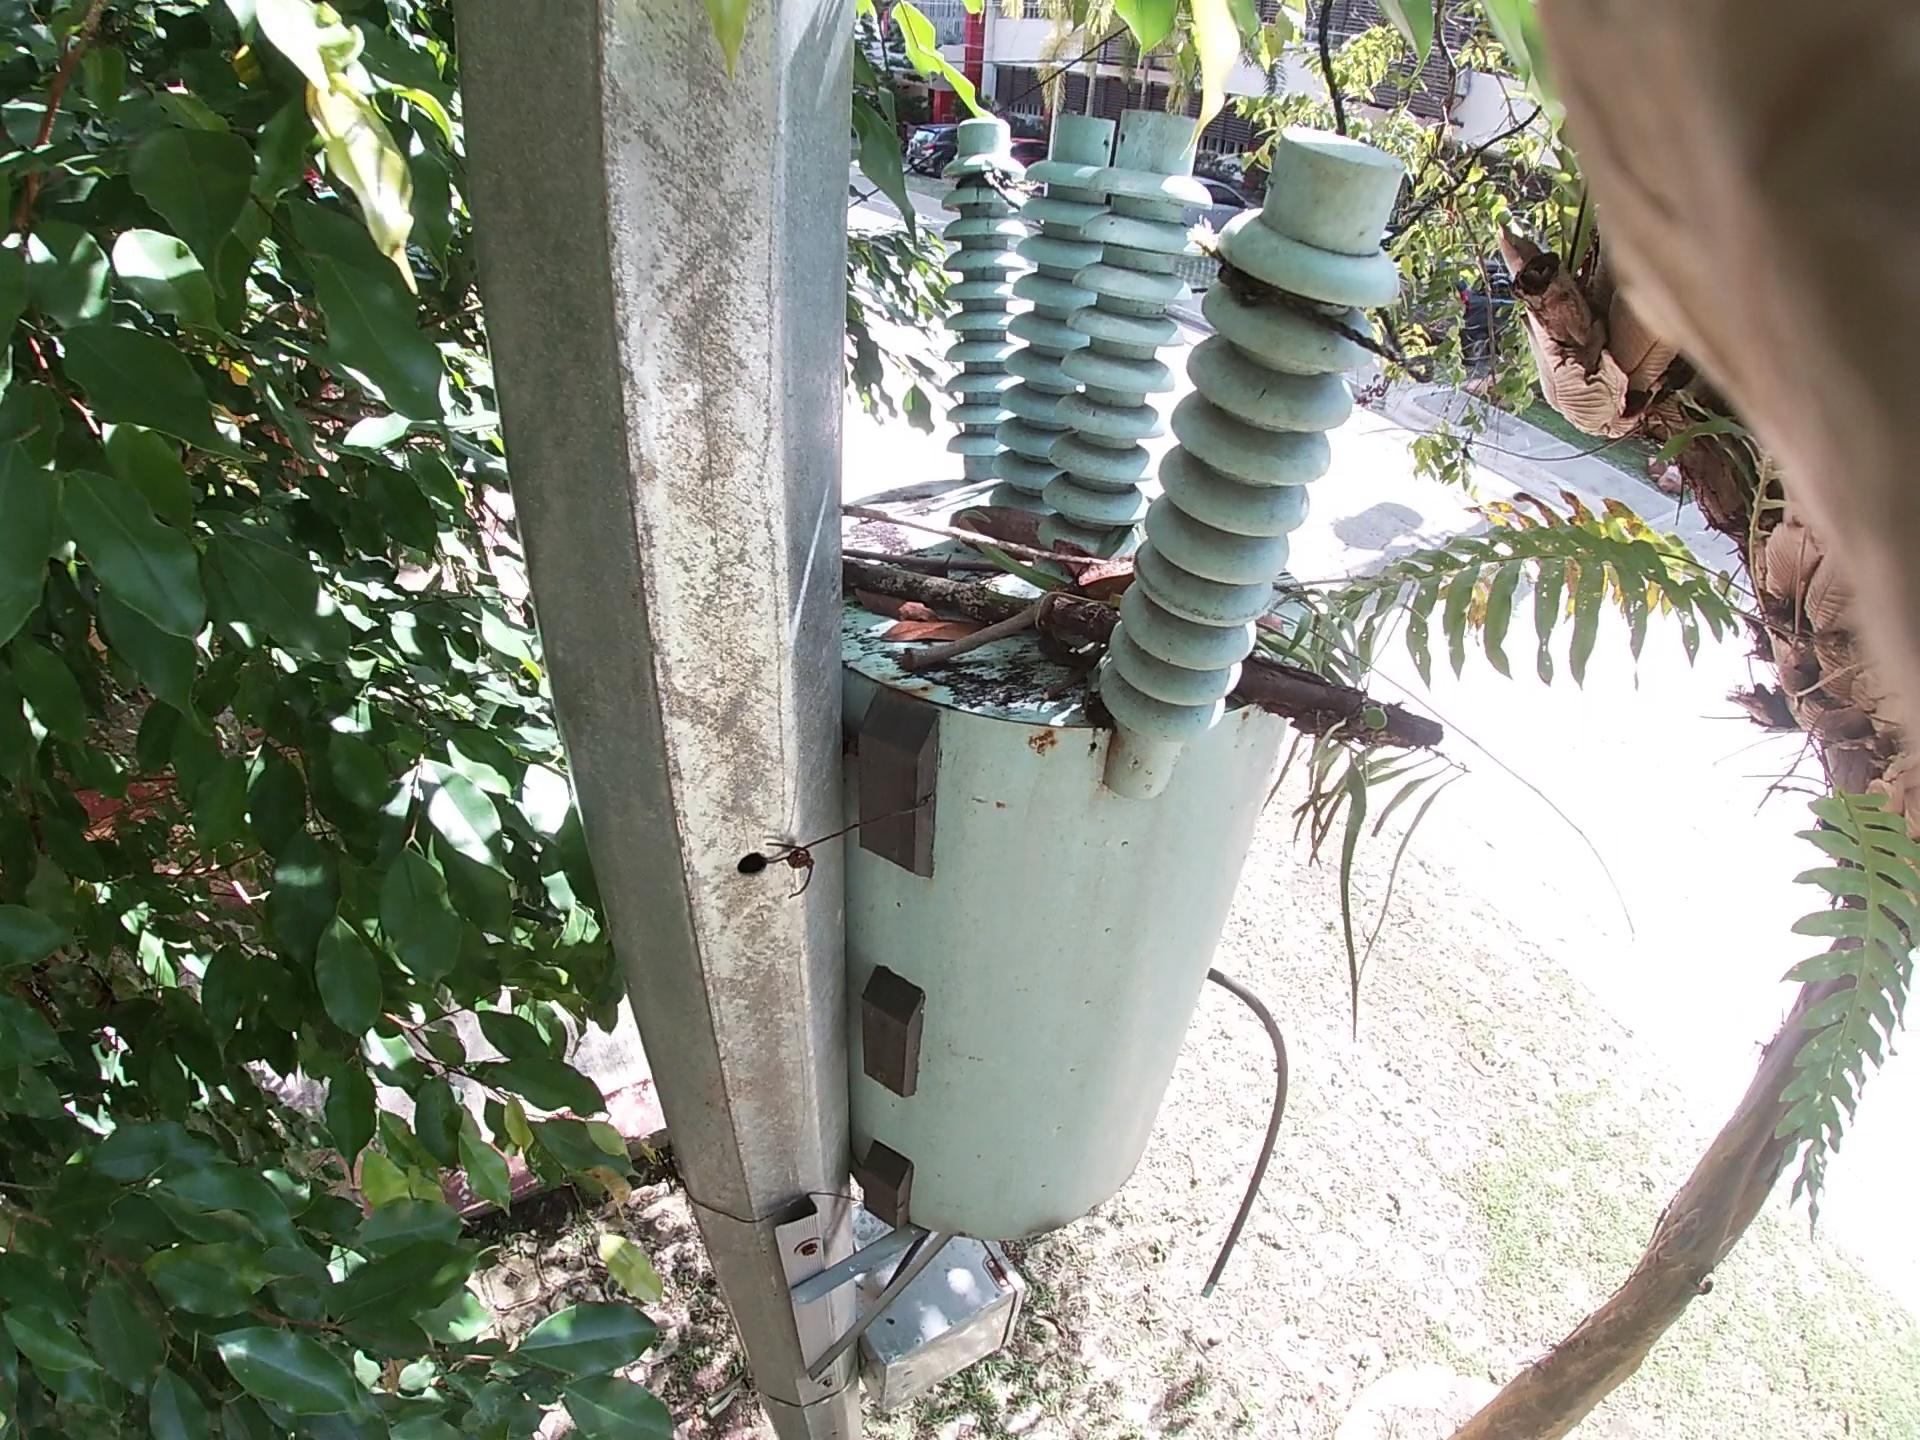branch with leaves: (841, 564, 1534, 797)
leaf: (859, 569, 1008, 672)
mahogany fruit: (1042, 549, 1188, 669), (962, 483, 1154, 566)
tree branch: (906, 507, 1590, 777), (838, 424, 1067, 540), (877, 610, 1073, 694)
